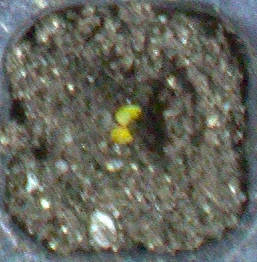pepper seed: (42, 51, 177, 197), (43, 40, 185, 166)
